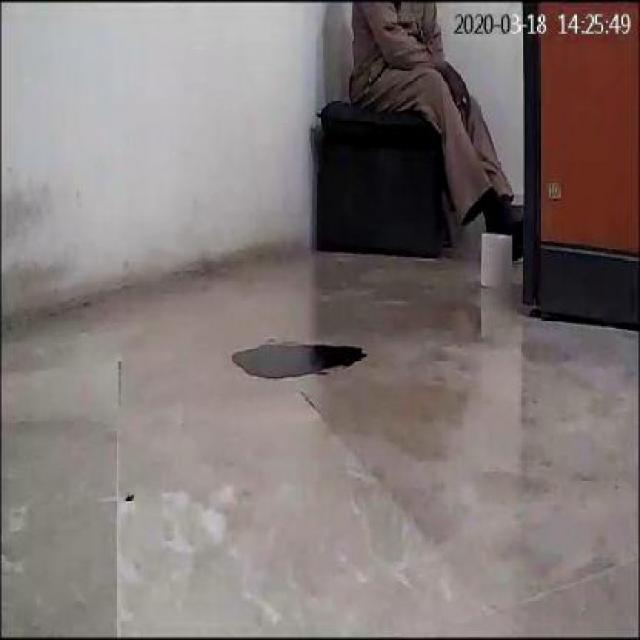spill: (226, 334, 366, 382)
